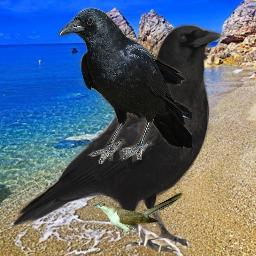Crow: (10, 20, 226, 256), (57, 7, 192, 164)
Cuckoo: (92, 192, 183, 233)
